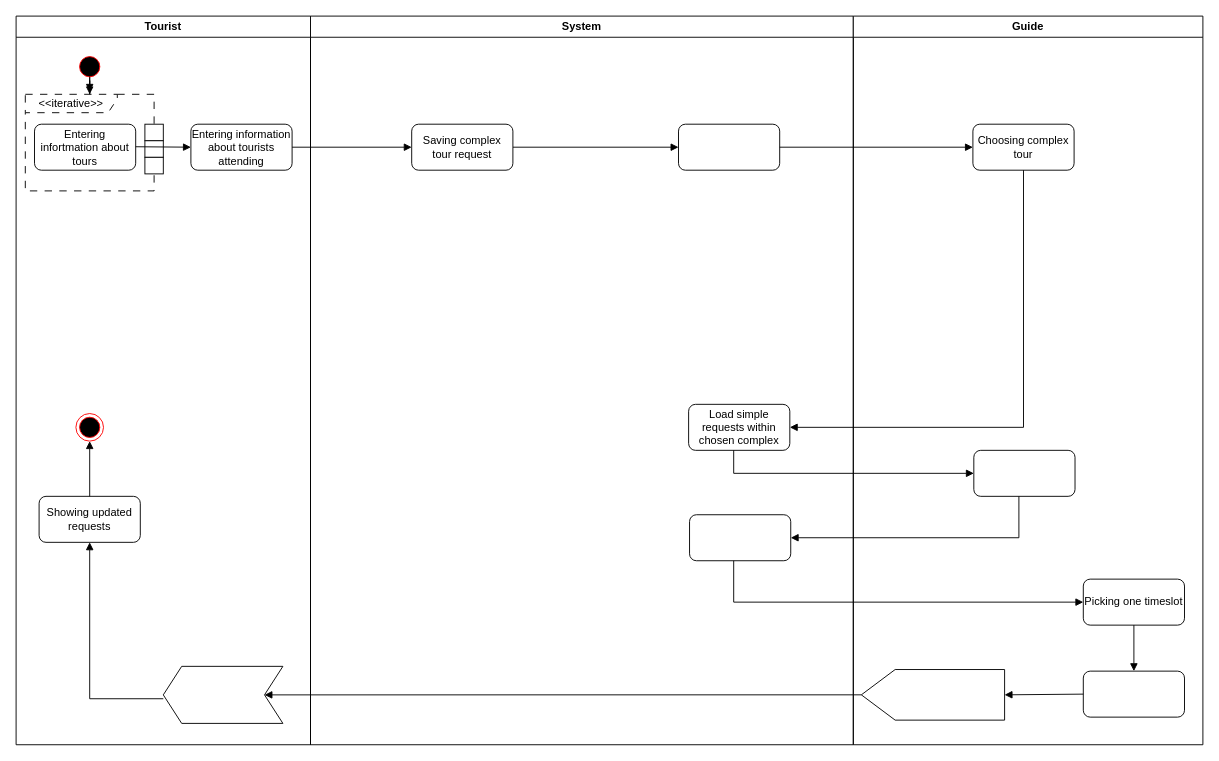
Image size: 1219x761. Some labels were removed from this diagram. The centre of each missing label's shape, as x and y in pixels:
"Accepting request" goes at [1133,693].
"Checking status" goes at [729,146].
"Offering available timeslots" goes at [740,537].
"Picking one from the list" goes at [1024,472].
"Recieve notifictaion" goes at [222,694].
"Send notification" goes at [932,694].
